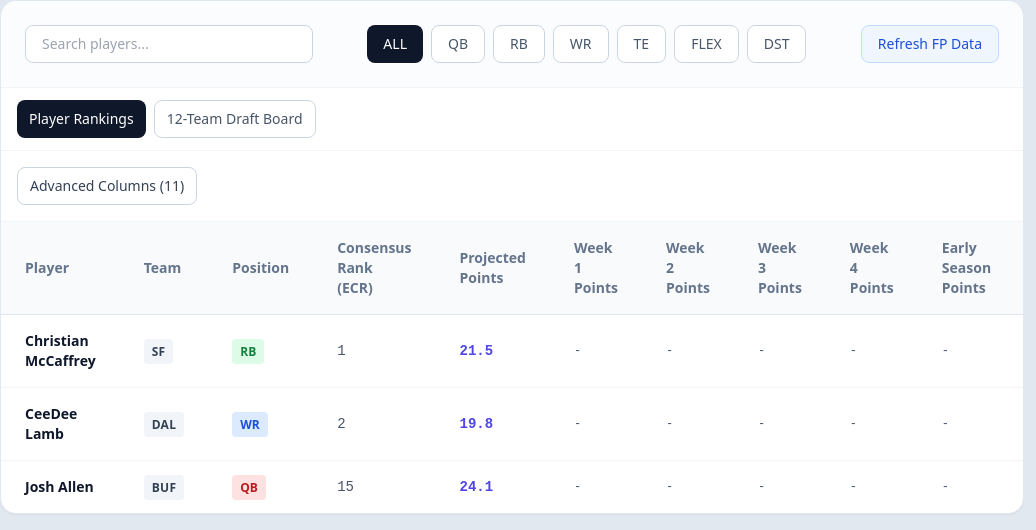
Test: DashboardClient › filters by position button
The image size is (1036, 530).
Step 1. Click the button with test id "position-filter-qb" → (458, 44), box [431,25,485,63]
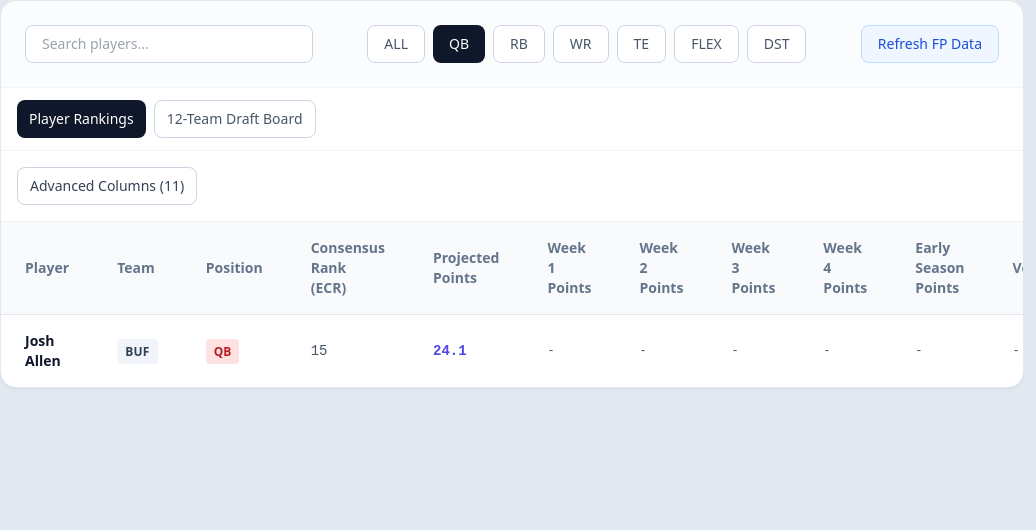
Expected: the text "Josh Allen" is shown, [1,314,93,387]
Result: the text "Christian McCaffrey" is gone
